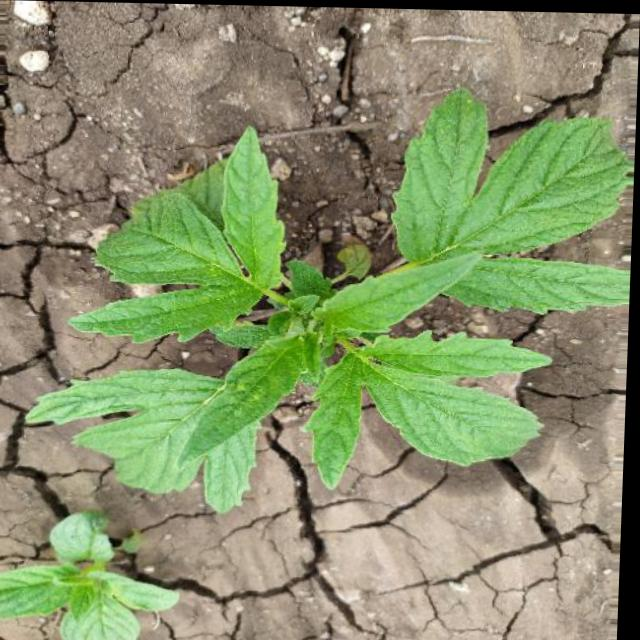crop: (29, 76, 635, 525)
